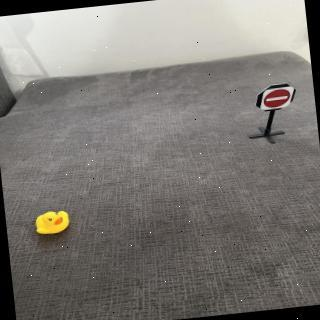duck_regular: (34, 207, 74, 240)
sign_noentry: (258, 85, 300, 113)
